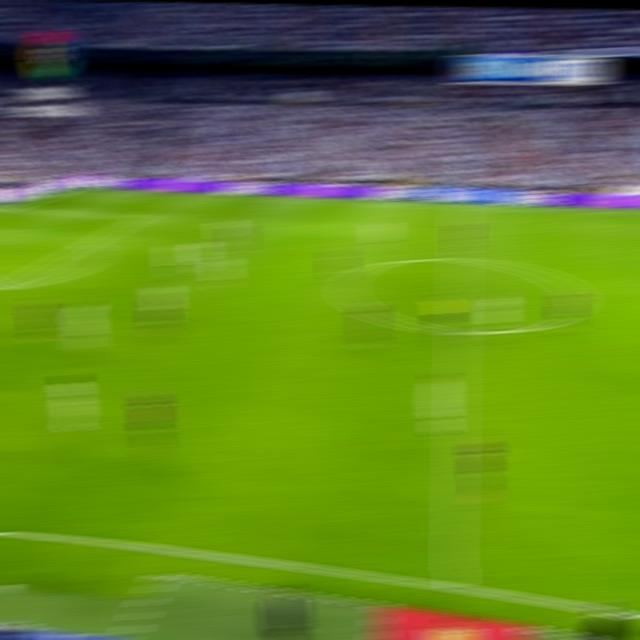halfcircle_bottom: (446, 321, 468, 340)
halfcircle_top: (448, 251, 471, 267)
midline_bottom_intersection: (440, 569, 467, 595)
midline_top_intersection: (450, 201, 470, 213)
